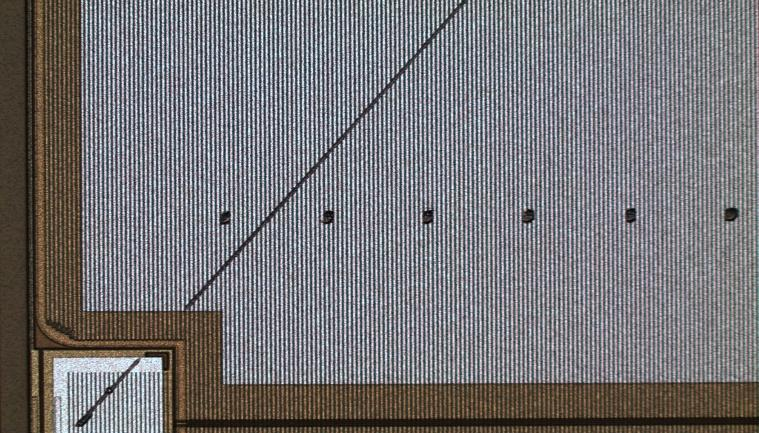SCRATCH: (46, 1, 492, 433)
